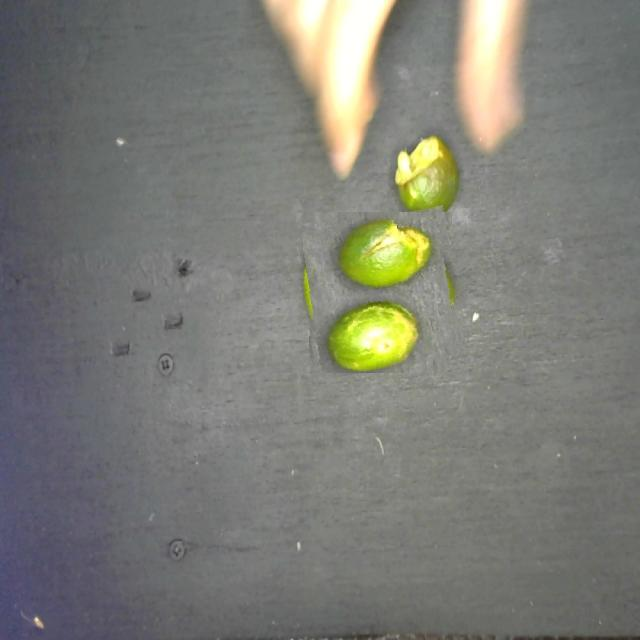biodegradable: (303, 212, 465, 373)
